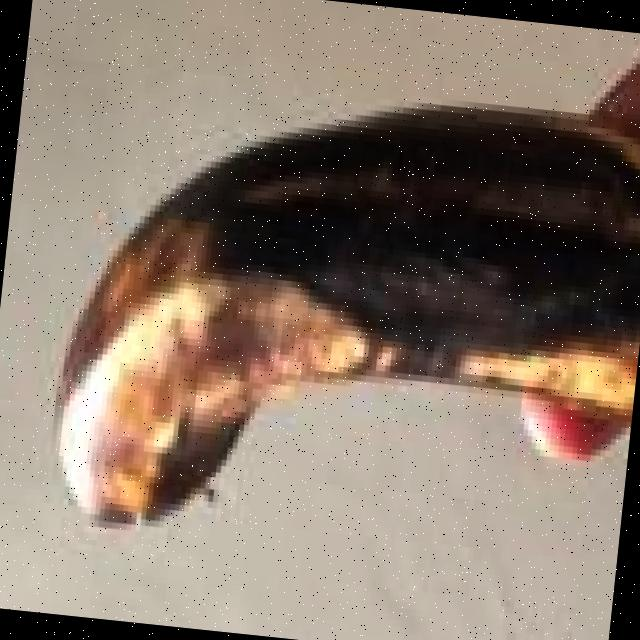Bad_Banana-0 day: (57, 106, 640, 524)
